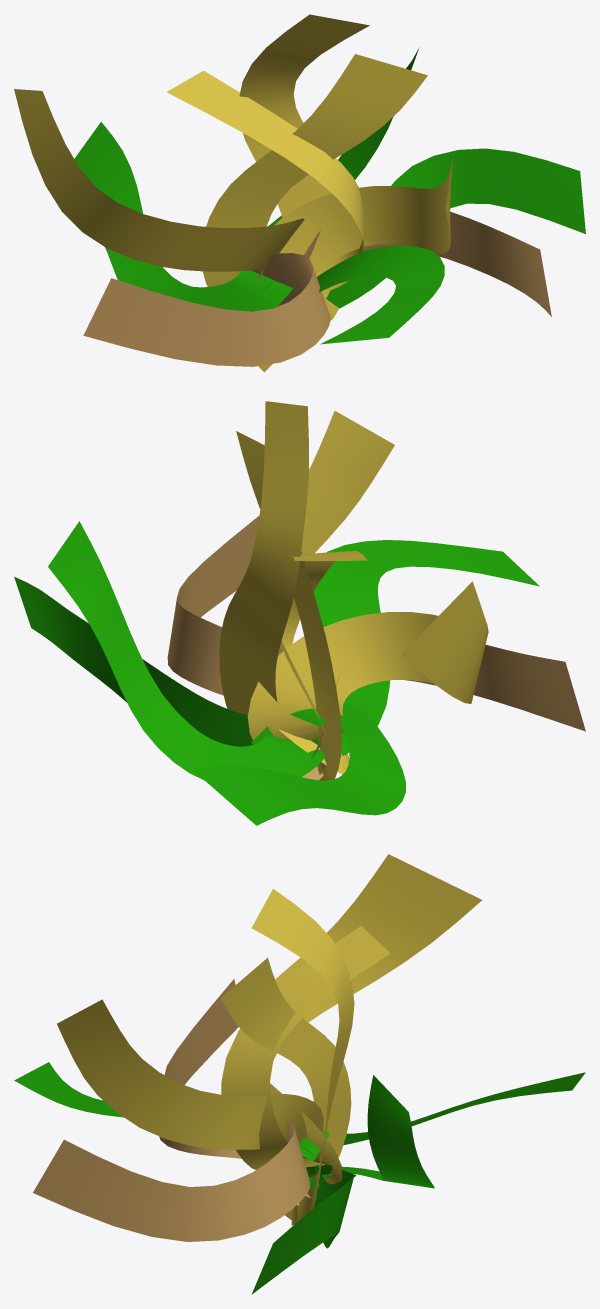
Rendered from E3D-Curve-Surround21_fbx.FBX.
The picture shows the model from 3 angles, top to bottom: view 1: azimuth 30°, elevation 25°; view 2: azimuth 150°, elevation 25°; view 3: azimuth 270°, elevation 25°; orthographic projection. The views are drawn at different scales.
Parts seen in each view (by area): view 1: E3D-Curve-Surround19; view 2: E3D-Curve-Surround19; view 3: E3D-Curve-Surround19.
Part boxes in pixels (x1=…): E3D-Curve-Surround19: x1=14, y1=14, x2=585, y2=372; E3D-Curve-Surround19: x1=14, y1=401, x2=585, y2=825; E3D-Curve-Surround19: x1=14, y1=854, x2=585, y2=1294.
Size of the model in its own units: 797 by 513 by 771.
